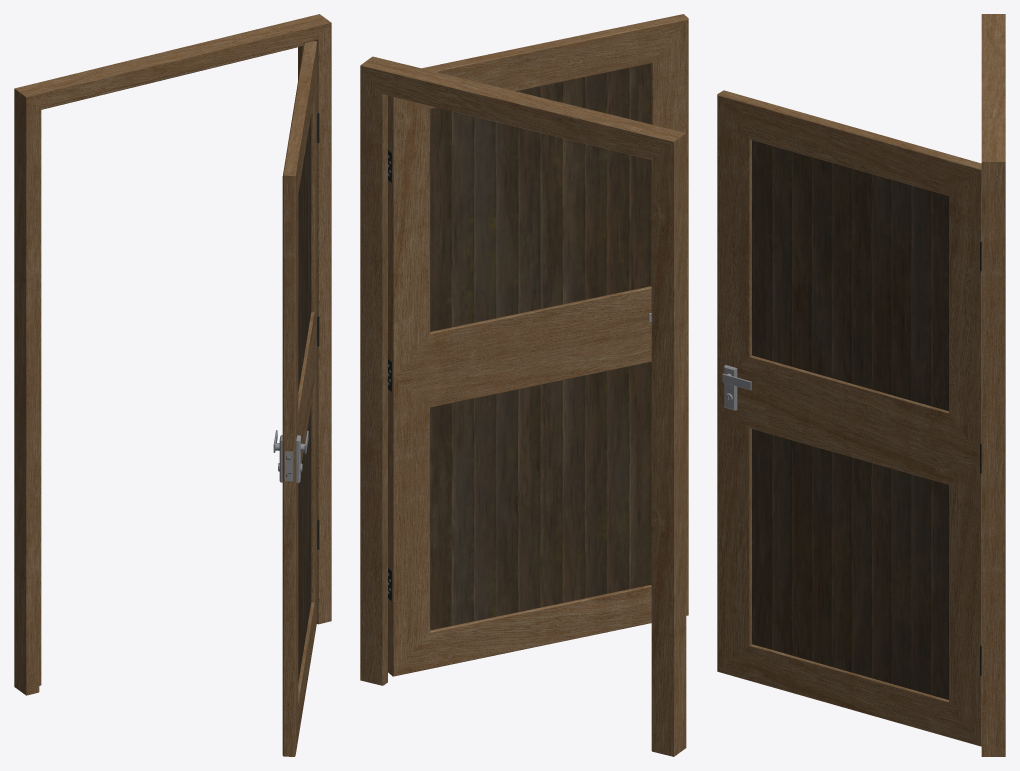
The model's file is wooden_door.glb.
The picture shows the model from 3 angles, left to right: view 1: azimuth 30°, elevation 25°; view 2: azimuth 150°, elevation 25°; view 3: azimuth 270°, elevation 25°; orthographic projection. The views are drawn at different scales.
Parts seen in each view (by area): view 1: Cube; view 2: Cube; view 3: Cube.
Part boxes in pixels (x1=…): Cube: x1=14, y1=14, x2=331, y2=756; Cube: x1=360, y1=14, x2=688, y2=756; Cube: x1=717, y1=14, x2=1005, y2=756.
Bounding box in the file's own units: 1.1 × 2.06 × 0.9042.
5 materials, 4 textured.
